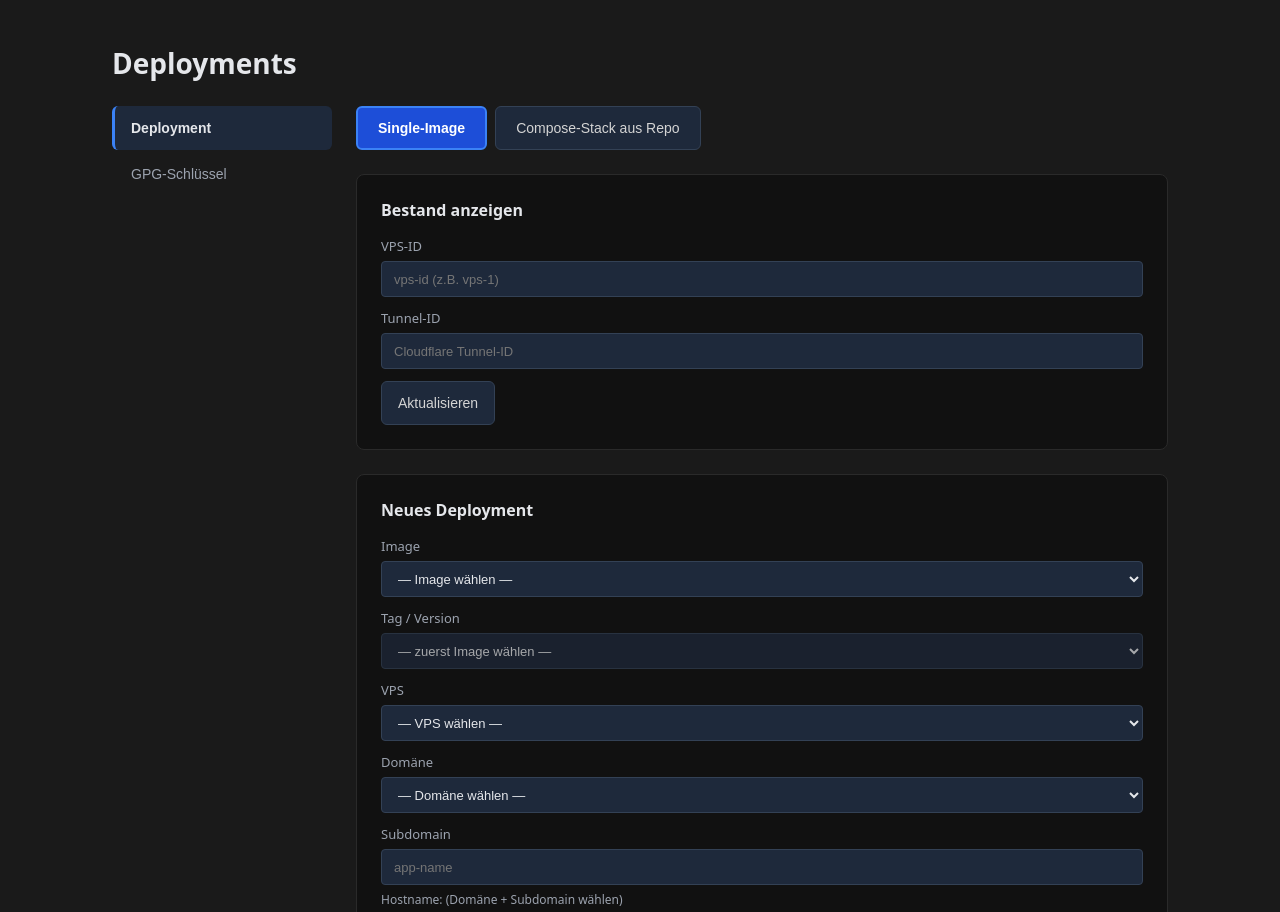
Scenario: AC10 — Deploy-Button gesperrt bis VPS ready › Deploy-Button disabled when VPS selected but not yet ready (provisioning)
Select "brew-assistent" in the dropdown with id "deploy-image-select" at (762, 579), box x1=381 y1=561 x2=1143 y2=597
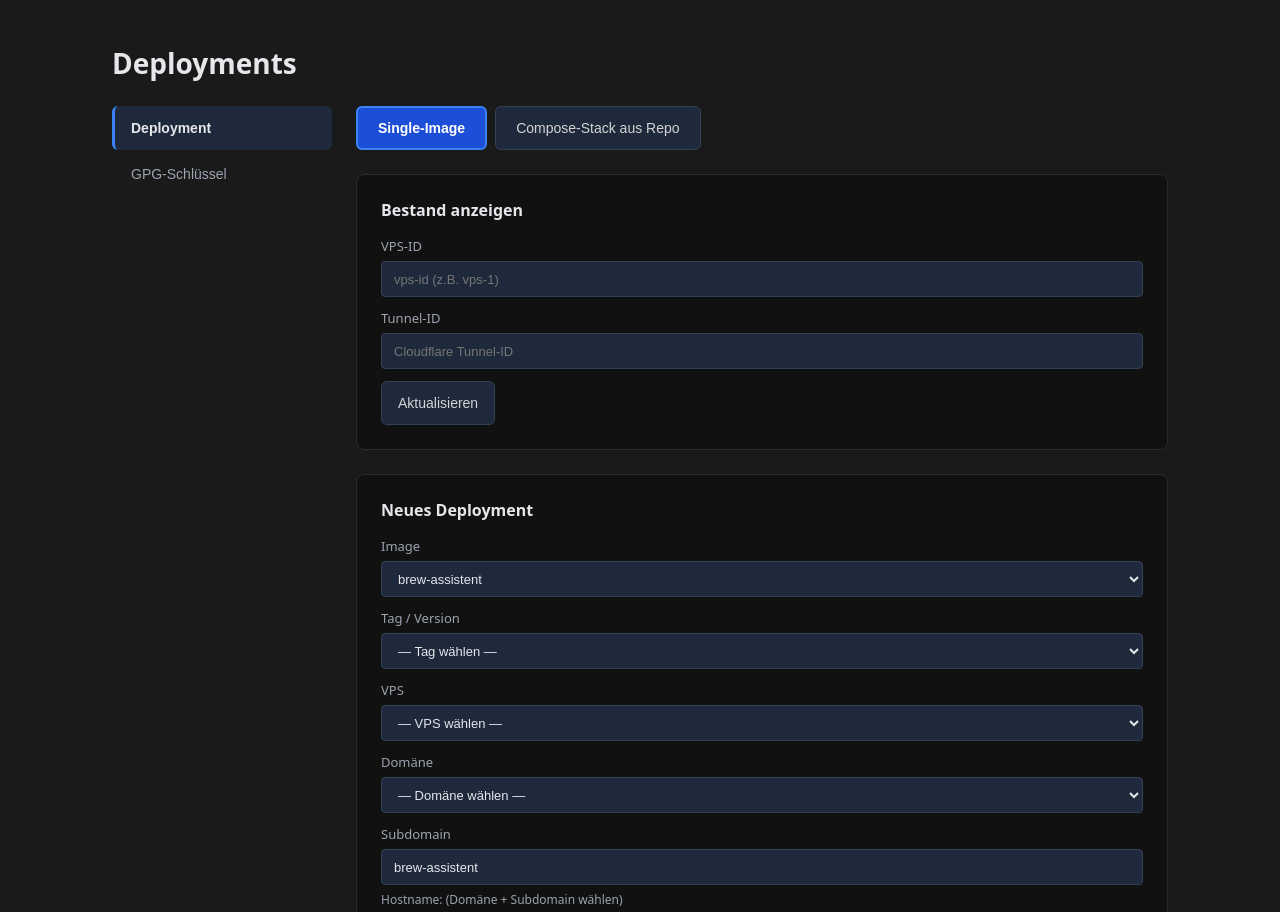
Select "v1.0.0" in the dropdown with id "deploy-tag-select" at (762, 651), box x1=381 y1=633 x2=1143 y2=669
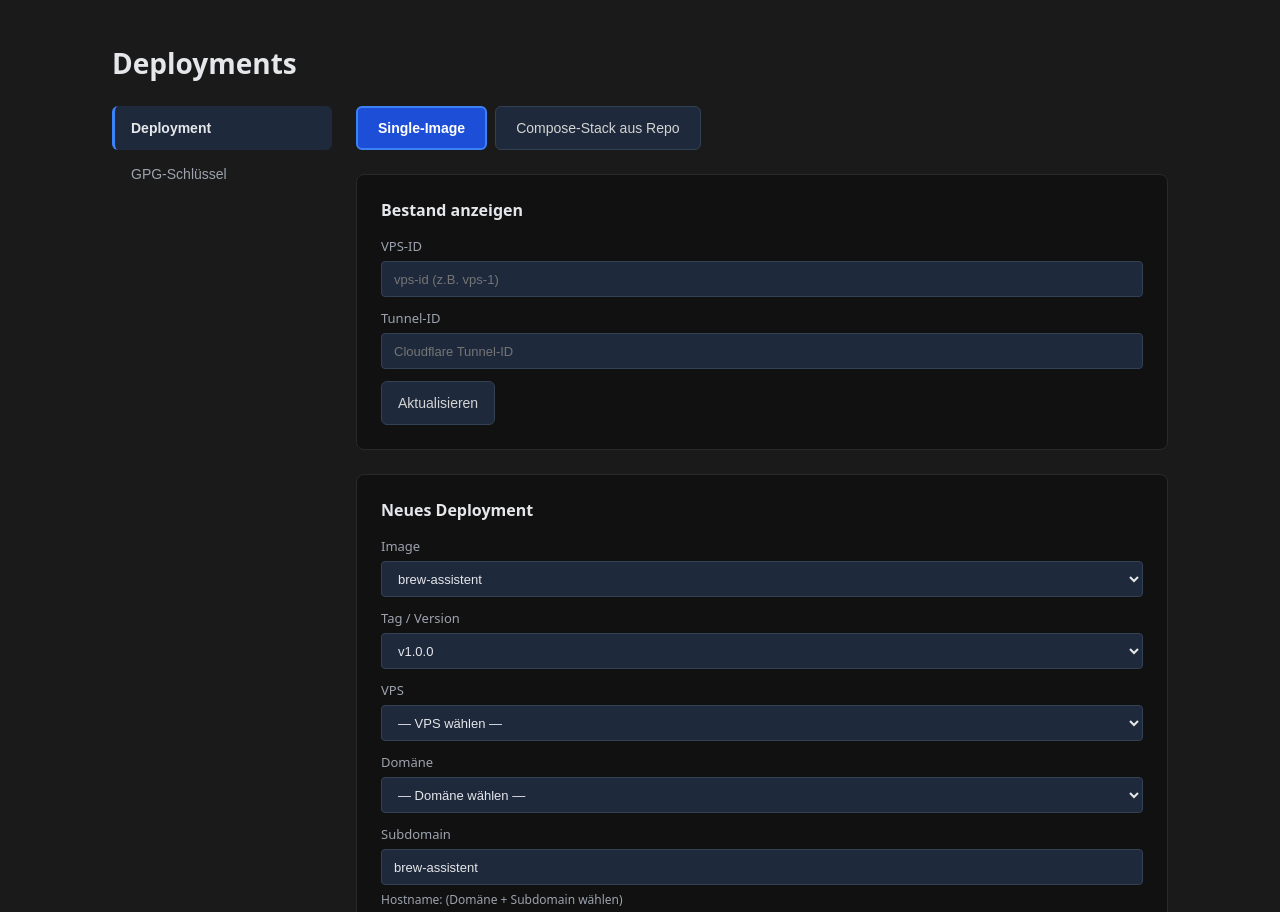
Select "vps-1" in the dropdown with id "deploy-vps-select" at (762, 723), box x1=381 y1=705 x2=1143 y2=741
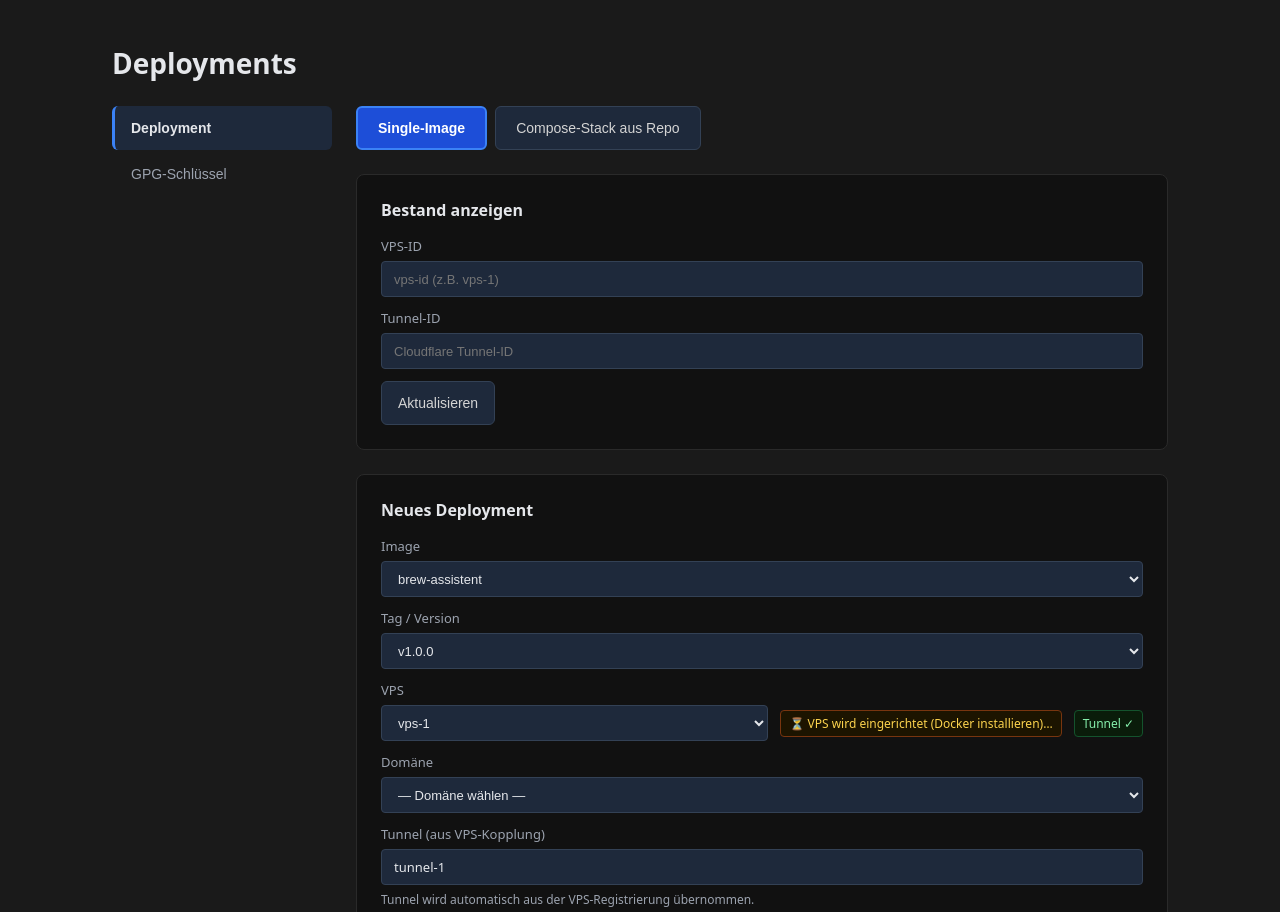
Select "alexstuder.cloud" in the dropdown with id "deploy-zone-select" at (762, 795), box x1=381 y1=777 x2=1143 y2=813
Wait 200 ms
(page scrolled)
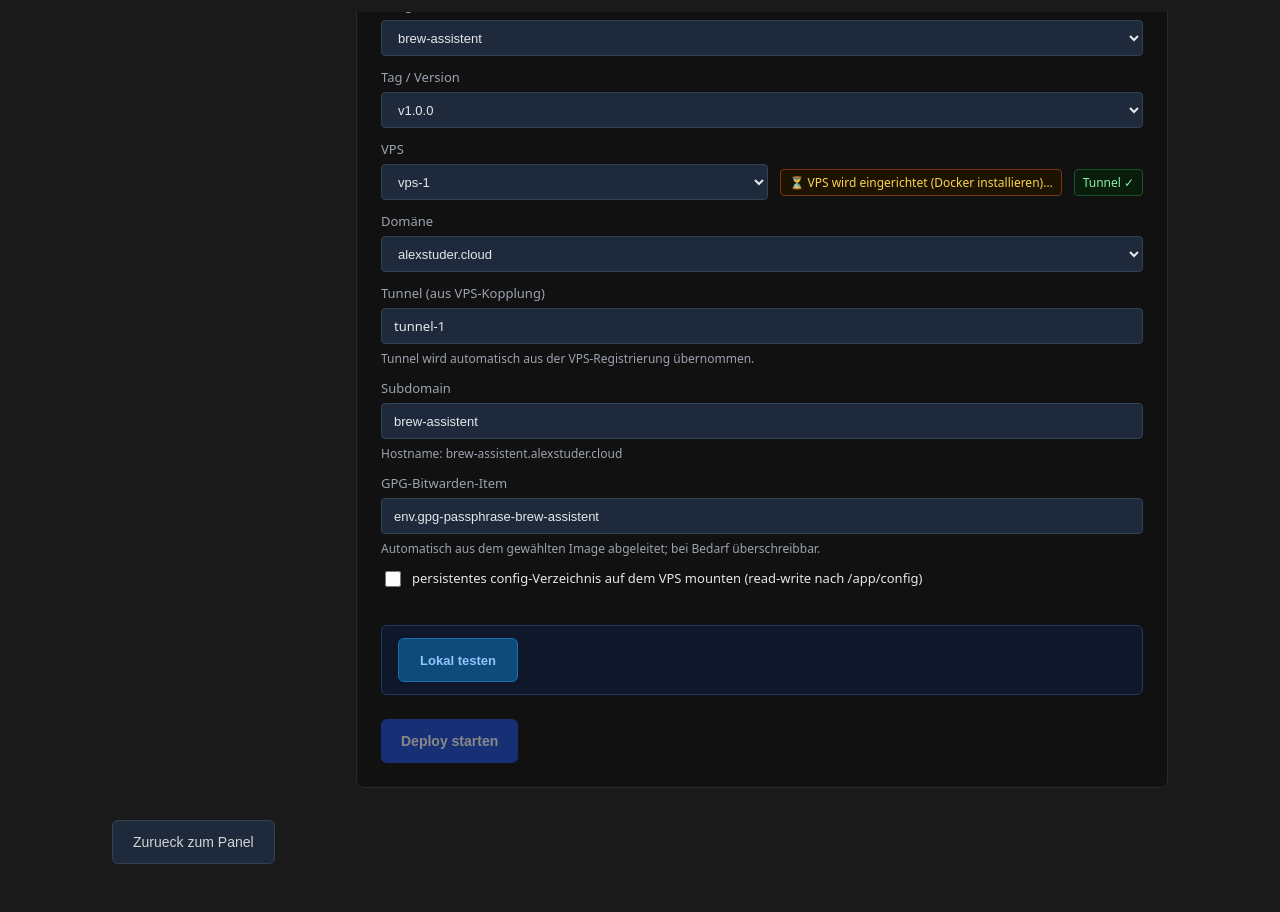
Now the message "Tunnel ✓" is shown, box x1=1074 y1=168 x2=1143 y2=196
Now the message "⏳ VPS wird eingerichtet (Docker installieren)…" is shown, box x1=780 y1=168 x2=1062 y2=196
Now the button "Deploy starten" is disabled, box x1=381 y1=719 x2=518 y2=763
